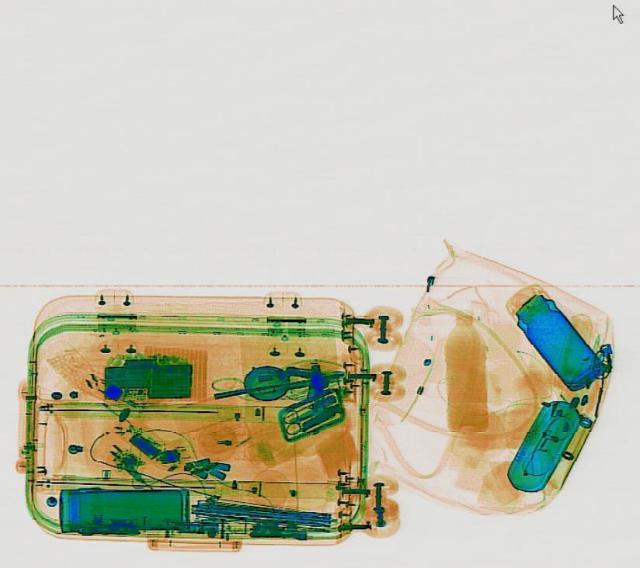Scissors: (274, 399, 326, 434)
